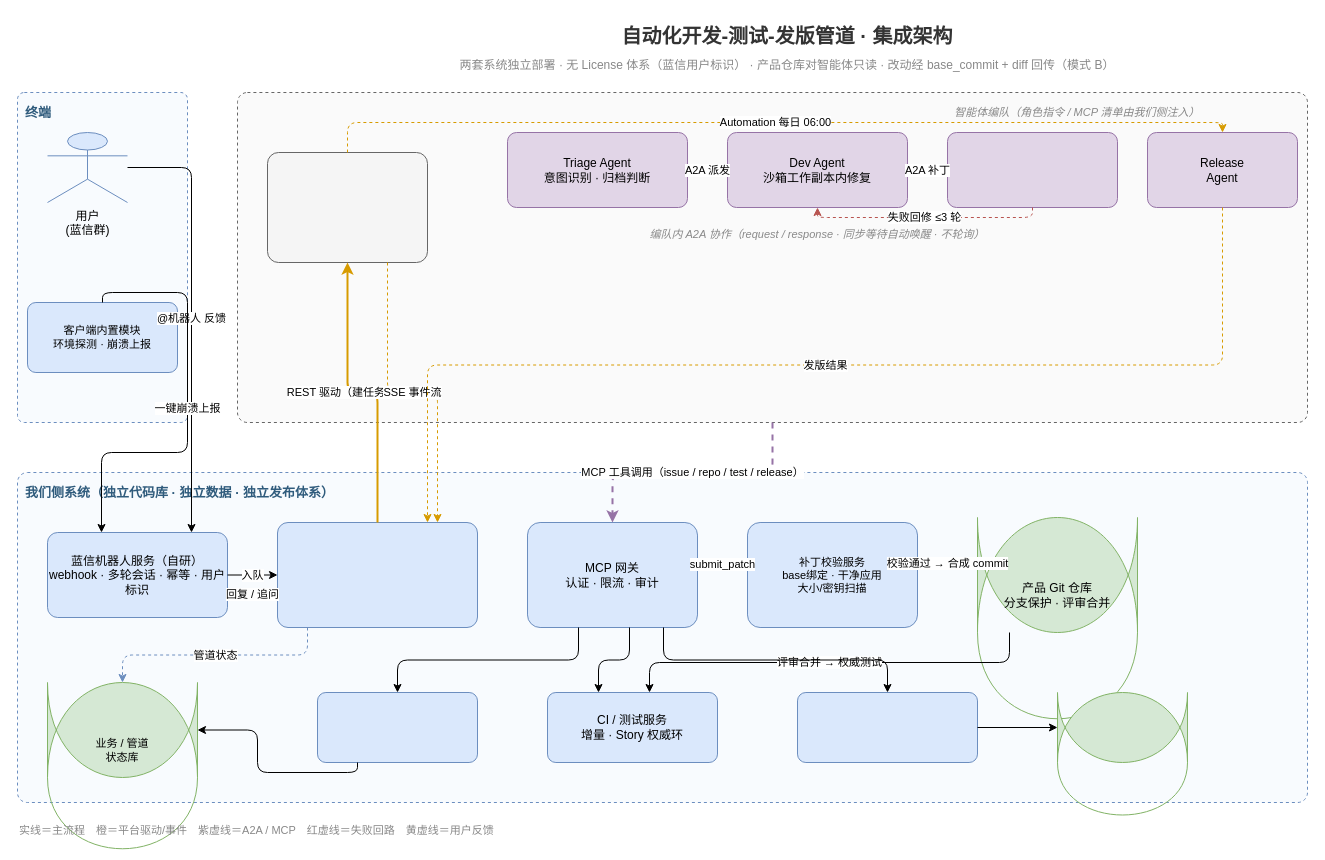
The diagram is 1325 pixels wide and 860 high, and some of its shapes have lost their labels. Each missing label, with the box of its shape:
Issue 管理服务: (316, 692, 478, 762)
Orchestrator 编排服务 状态机 · 门禁 · 失败处置: (276, 522, 478, 628)
Syntropy Master 控制面 · 任务创建 消息投递 · 事件流: (266, 152, 428, 262)
Syntropy 集群（原样部署 · 不做代码改动）: (236, 92, 1308, 422)
Test Agent 权威环触发 · 失败定位: (946, 132, 1118, 208)
制品库: (1056, 692, 1188, 762)
发版服务 构建 · 签名 · 发布 · 回滚: (796, 692, 978, 762)
